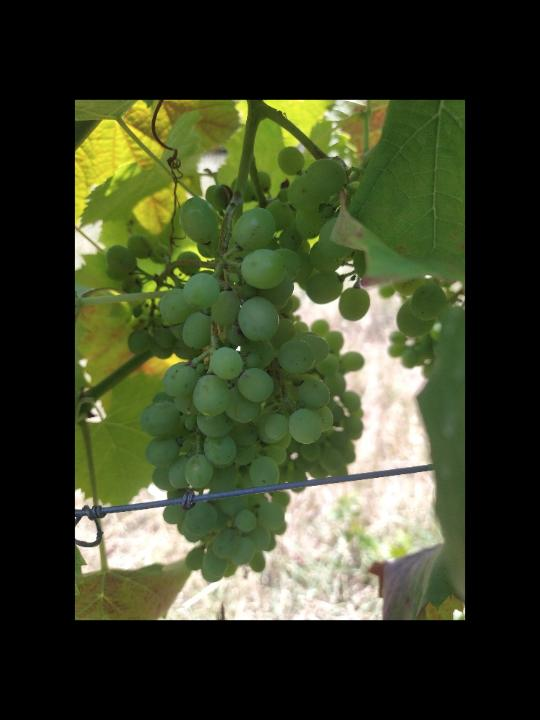grape: (105, 145, 370, 586)
